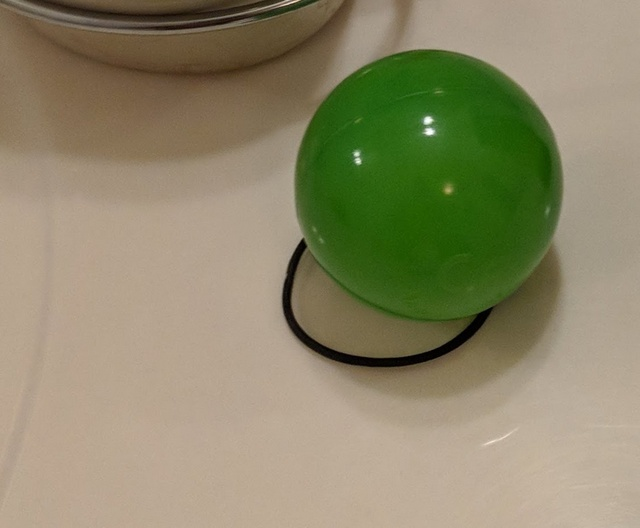Ball: (292, 52, 562, 317)
